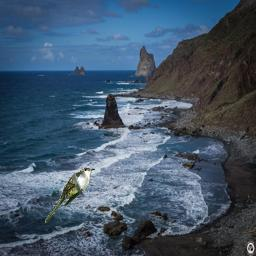Cuckoo: (44, 167, 95, 224)
